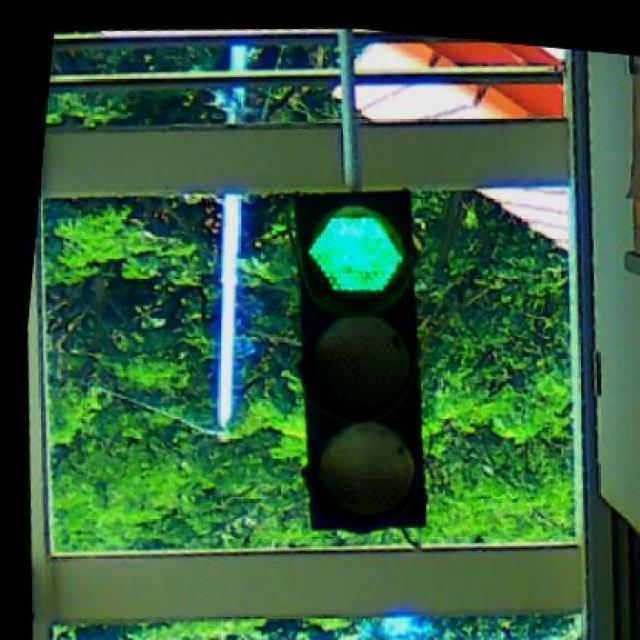green_light: (294, 189, 424, 530)
